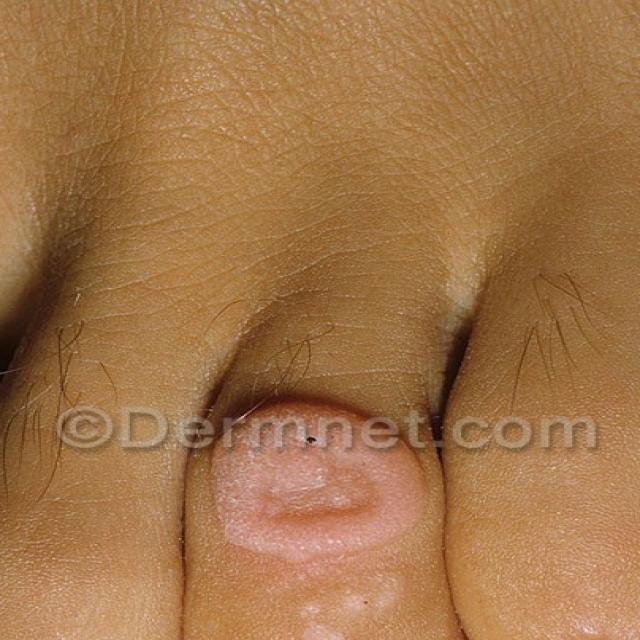Warts: (175, 389, 441, 578)
